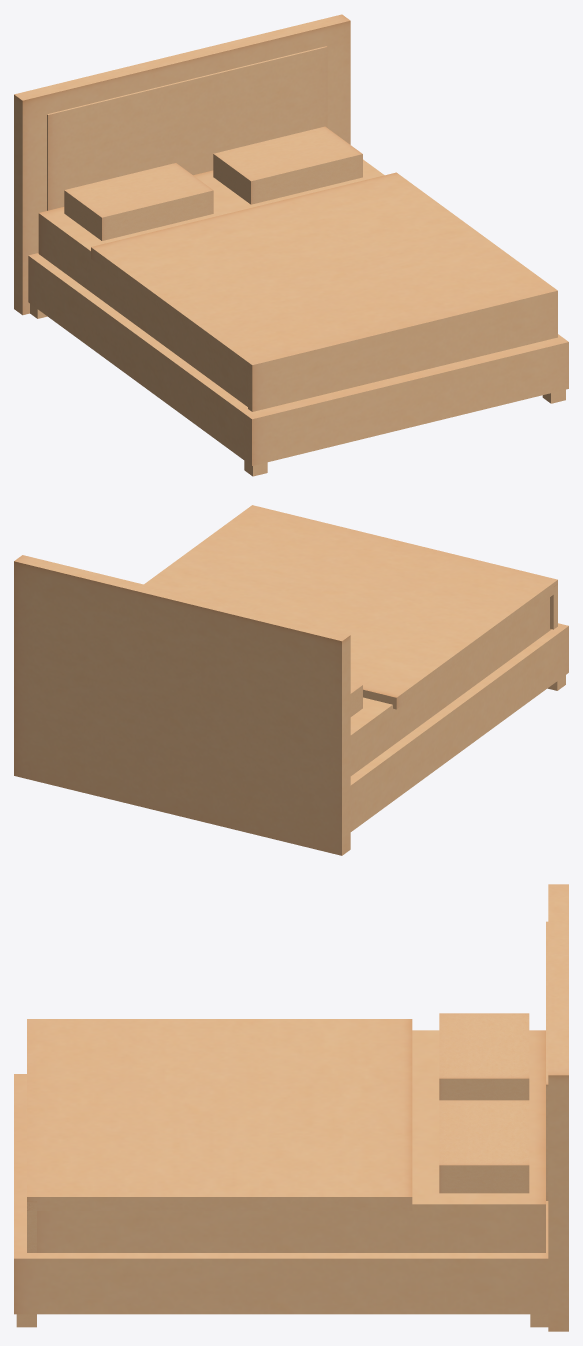
The model's file is Bed.fbx.
The picture shows the model from 3 angles, top to bottom: view 1: azimuth 30°, elevation 25°; view 2: azimuth 150°, elevation 25°; view 3: azimuth 270°, elevation 25°; orthographic projection. The views are drawn at different scales.
Parts seen in each view (by area): view 1: Bed; view 2: Bed; view 3: Bed.
Boxes of the visible parts, left/top/right/bottom form: Bed: left=14, top=14, right=568, bottom=476; Bed: left=14, top=505, right=568, bottom=855; Bed: left=14, top=884, right=568, bottom=1331.
Size of the model in its own units: 1.76 by 1.1 by 2.16.
